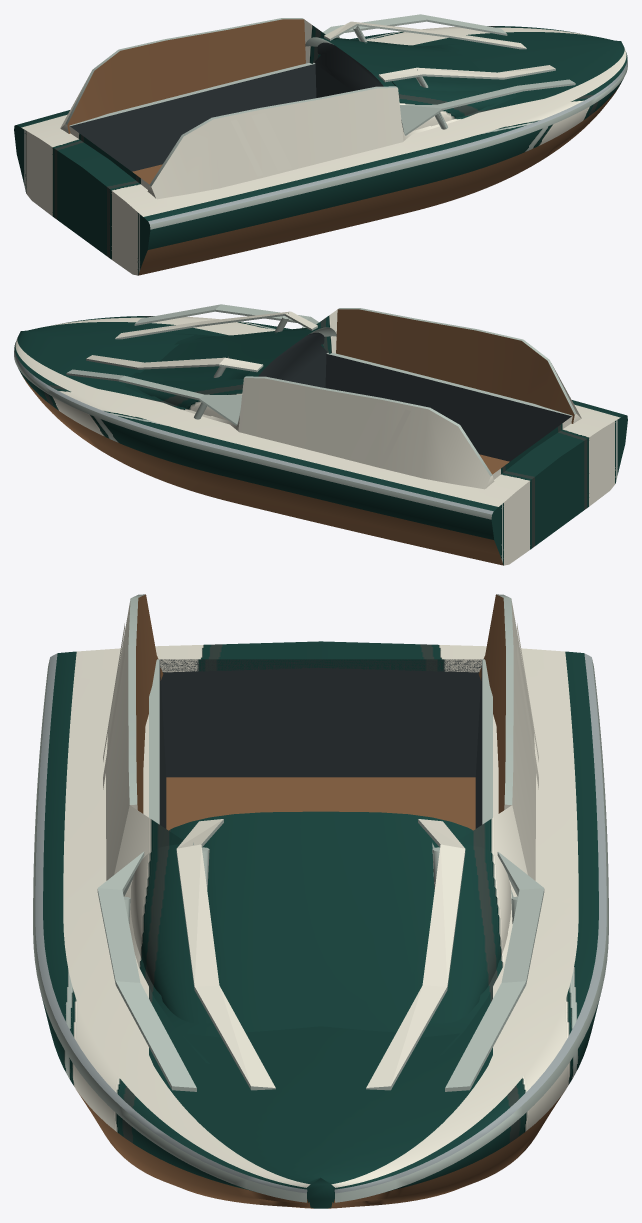
File: Hull_26_SSR_深緑・銀架.glb
The picture shows the model from 3 angles, top to bottom: view 1: azimuth 30°, elevation 25°; view 2: azimuth 150°, elevation 25°; view 3: azimuth 270°, elevation 25°; orthographic projection. The views are drawn at different scales.
Parts seen in each view (by area): view 1: Hull_26_SSR; view 2: Hull_26_SSR; view 3: Hull_26_SSR.
Part boxes in pixels (x1,y1,x2,y2): Hull_26_SSR: (14, 14, 627, 275); Hull_26_SSR: (14, 304, 627, 565); Hull_26_SSR: (33, 594, 608, 1208).
Size of the model in its own units: 2.9 by 0.6856 by 1.34.
4 materials, 4 textured.
